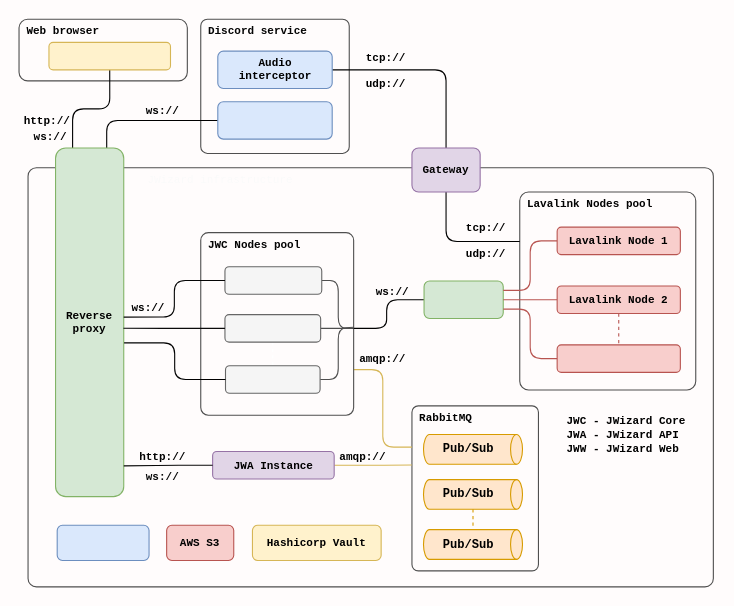
Image size: 734x606. Some labels were removed from this diagram. The centre of each missing label's shape, as x and y in pixels:
"Interactions interceptor" belongs at [274,120].
"JWC Node 1" belongs at [273,280].
"JWC Node 2" belongs at [272,328].
"JWC Node N" belongs at [272,379].
"JWW UI" belongs at [109,55].
"Lavalink Node N" belongs at [618,358].
"Load balancer" belongs at [463,299].
"MySQL DB" belongs at [102,542].
